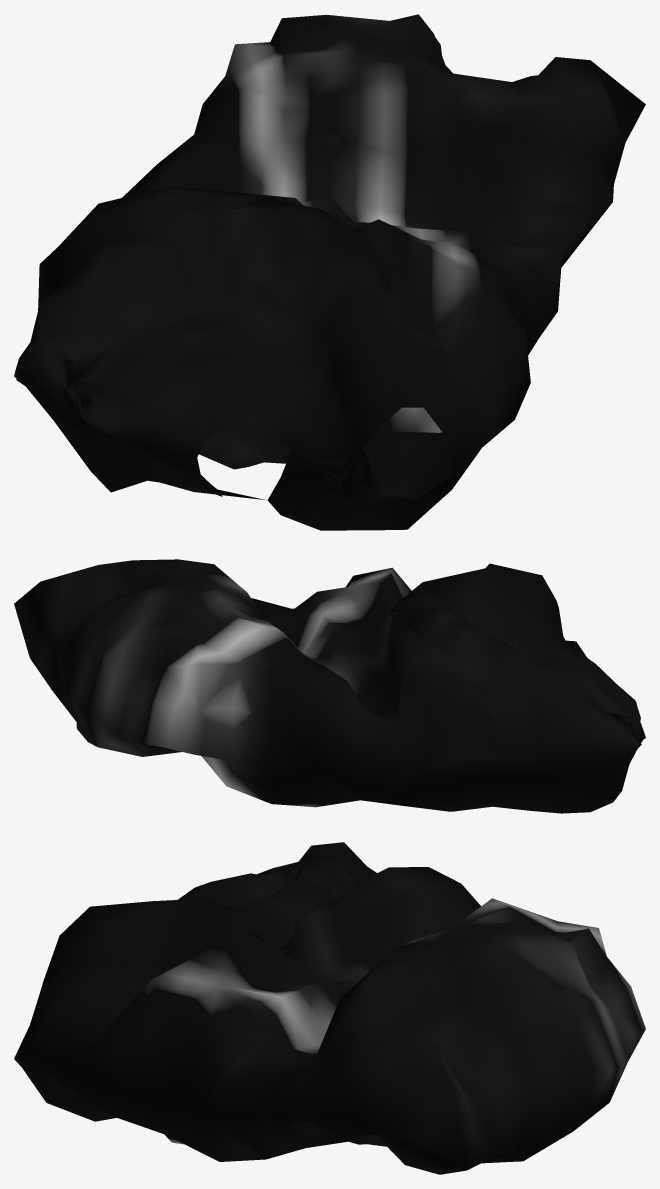
Rendered from Bolsa patatas.fbx.
3 renders of one model, top to bottom at view 1: azimuth 30°, elevation 25°; view 2: azimuth 150°, elevation 25°; view 3: azimuth 270°, elevation 25°, orthographic. The views are drawn at different scales.
Parts seen in each view (by area): view 1: Patatas.003; view 2: Patatas.003; view 3: Patatas.003.
Part boxes in pixels (x1,y1,x2,y2): Patatas.003: (14,14,645,530); Patatas.003: (14,559,645,813); Patatas.003: (14,842,645,1174).
Bounding box in the file's own units: 47.64 × 19.2 × 39.32.
